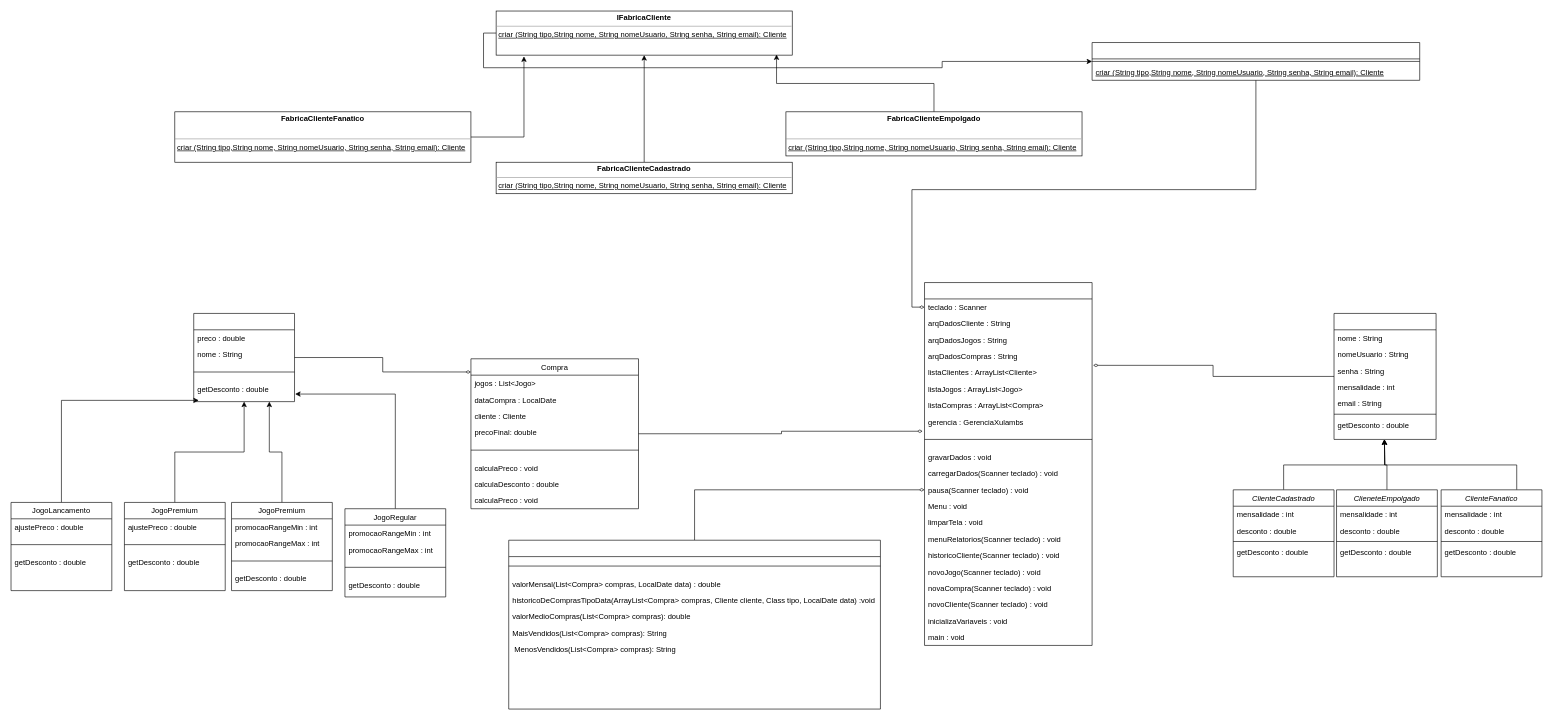
The diagram is 1553 pixels wide and 720 high, and some of its shapes have lost their labels. Each missing label, with the box of its shape:
Abstract Cliente: (1333, 313, 1436, 439)
Abstract Jogo: (193, 313, 295, 402)
App: (924, 282, 1092, 645)
FabricaCliente: (1091, 42, 1420, 80)
GerenciaXulambs: (508, 540, 880, 709)
